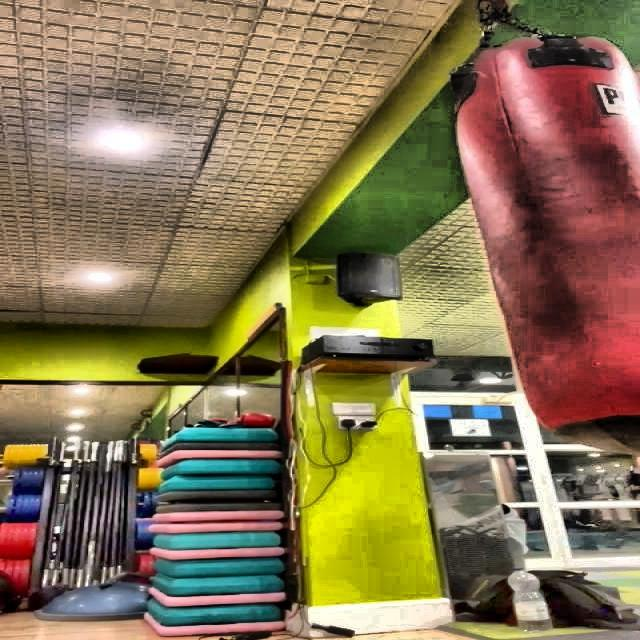boxing-bag: (460, 0, 640, 457)
